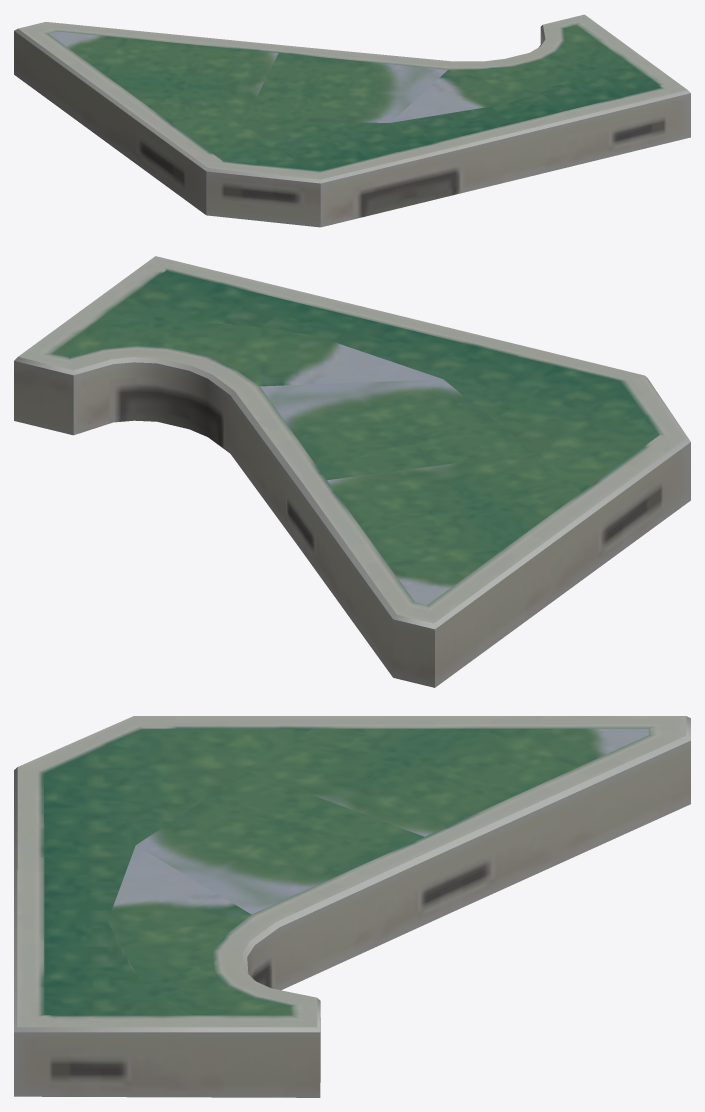
Rendered from pref_sm_city_shop02c_snow_lv3.fbx.
The picture shows the model from 3 angles, top to bottom: view 1: azimuth 30°, elevation 25°; view 2: azimuth 150°, elevation 25°; view 3: azimuth 270°, elevation 25°; orthographic projection. The views are drawn at different scales.
Visible parts, largest first — view 1: pref_sm_city_shop02c_snow_lv3; view 2: pref_sm_city_shop02c_snow_lv3; view 3: pref_sm_city_shop02c_snow_lv3.
Boxes of the visible parts, <box> form: pref_sm_city_shop02c_snow_lv3: <box>14,14,690,227</box>; pref_sm_city_shop02c_snow_lv3: <box>14,256,690,687</box>; pref_sm_city_shop02c_snow_lv3: <box>14,716,690,1097</box>.
Size of the model in its own units: 10.85 by 1.12 by 9.88.
